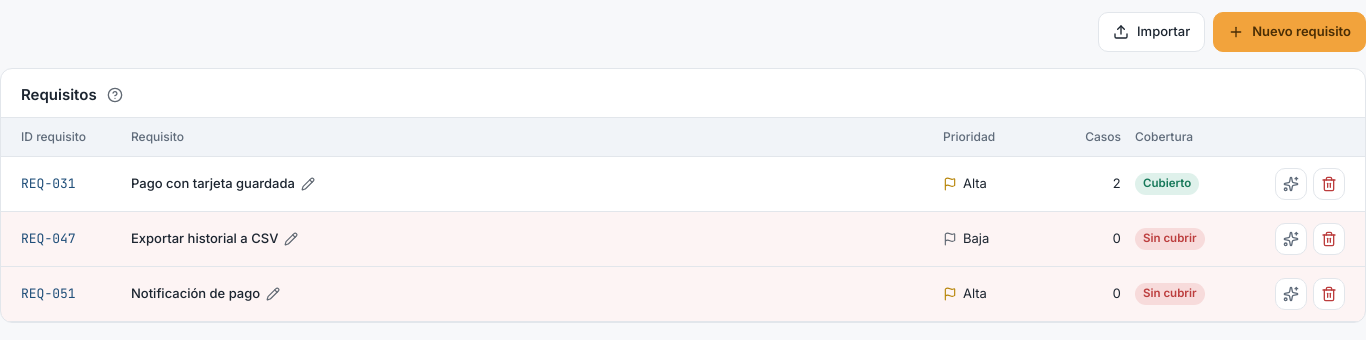
Test: Requisitos and Trazabilidad as two sections (UX-21) › «Requisitos» has the list, «Importar» and «Nuevo requisito», and no matrix nor execution read
Expected: the button "Nuevo requisito" is shown, [1213,12,1365,52]
Click the button "Importar" at coordinates (1152, 32), box [1098,12,1205,52]
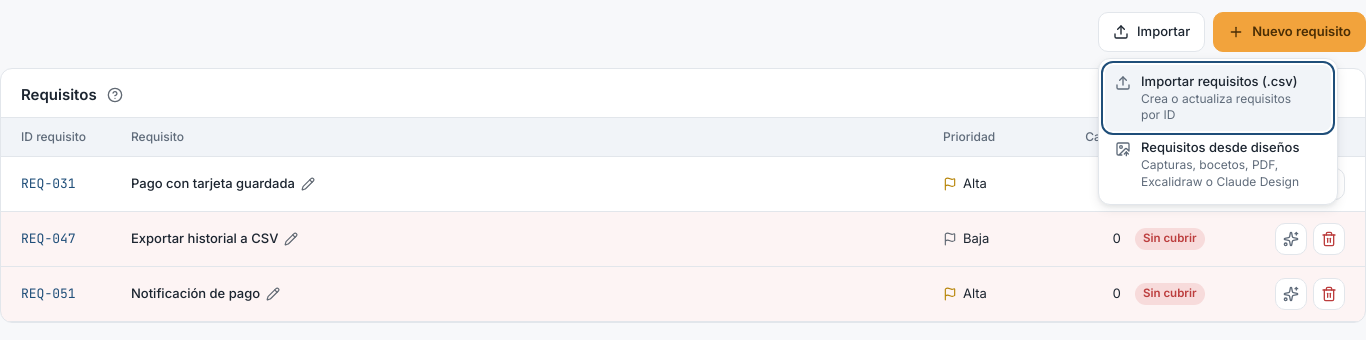
Expected: the menu item "Importar requisitos (.csv)" is shown, [1105,65,1331,131]
